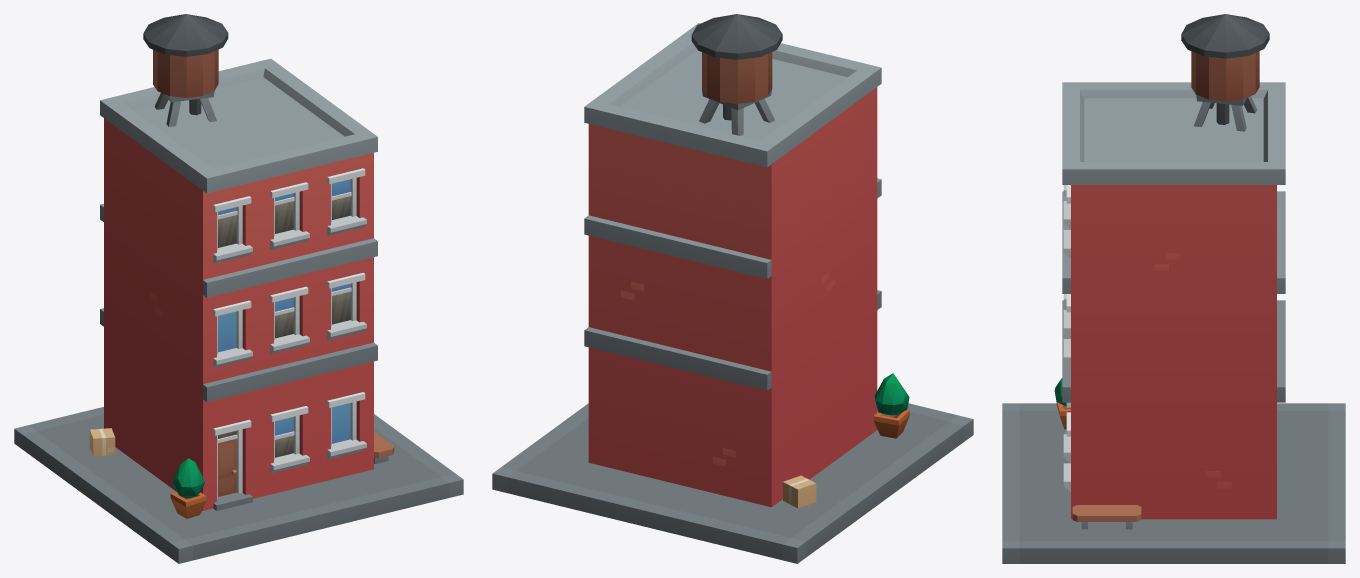
Rendered from building_C.obj.
3 renders of one model, left to right at view 1: azimuth 30°, elevation 25°; view 2: azimuth 150°, elevation 25°; view 3: azimuth 270°, elevation 25°, orthographic. The views are drawn at different scales.
Bounding box in the file's own units: 2 × 2.98 × 2.
Materials: 1 (1 with a texture image).
